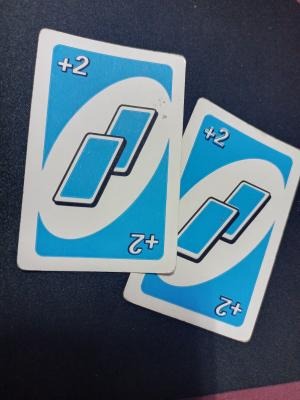-2: (57, 49, 92, 81), (126, 230, 161, 259), (198, 119, 230, 149), (213, 293, 245, 320)
blue: (45, 43, 168, 261), (192, 116, 256, 313)
